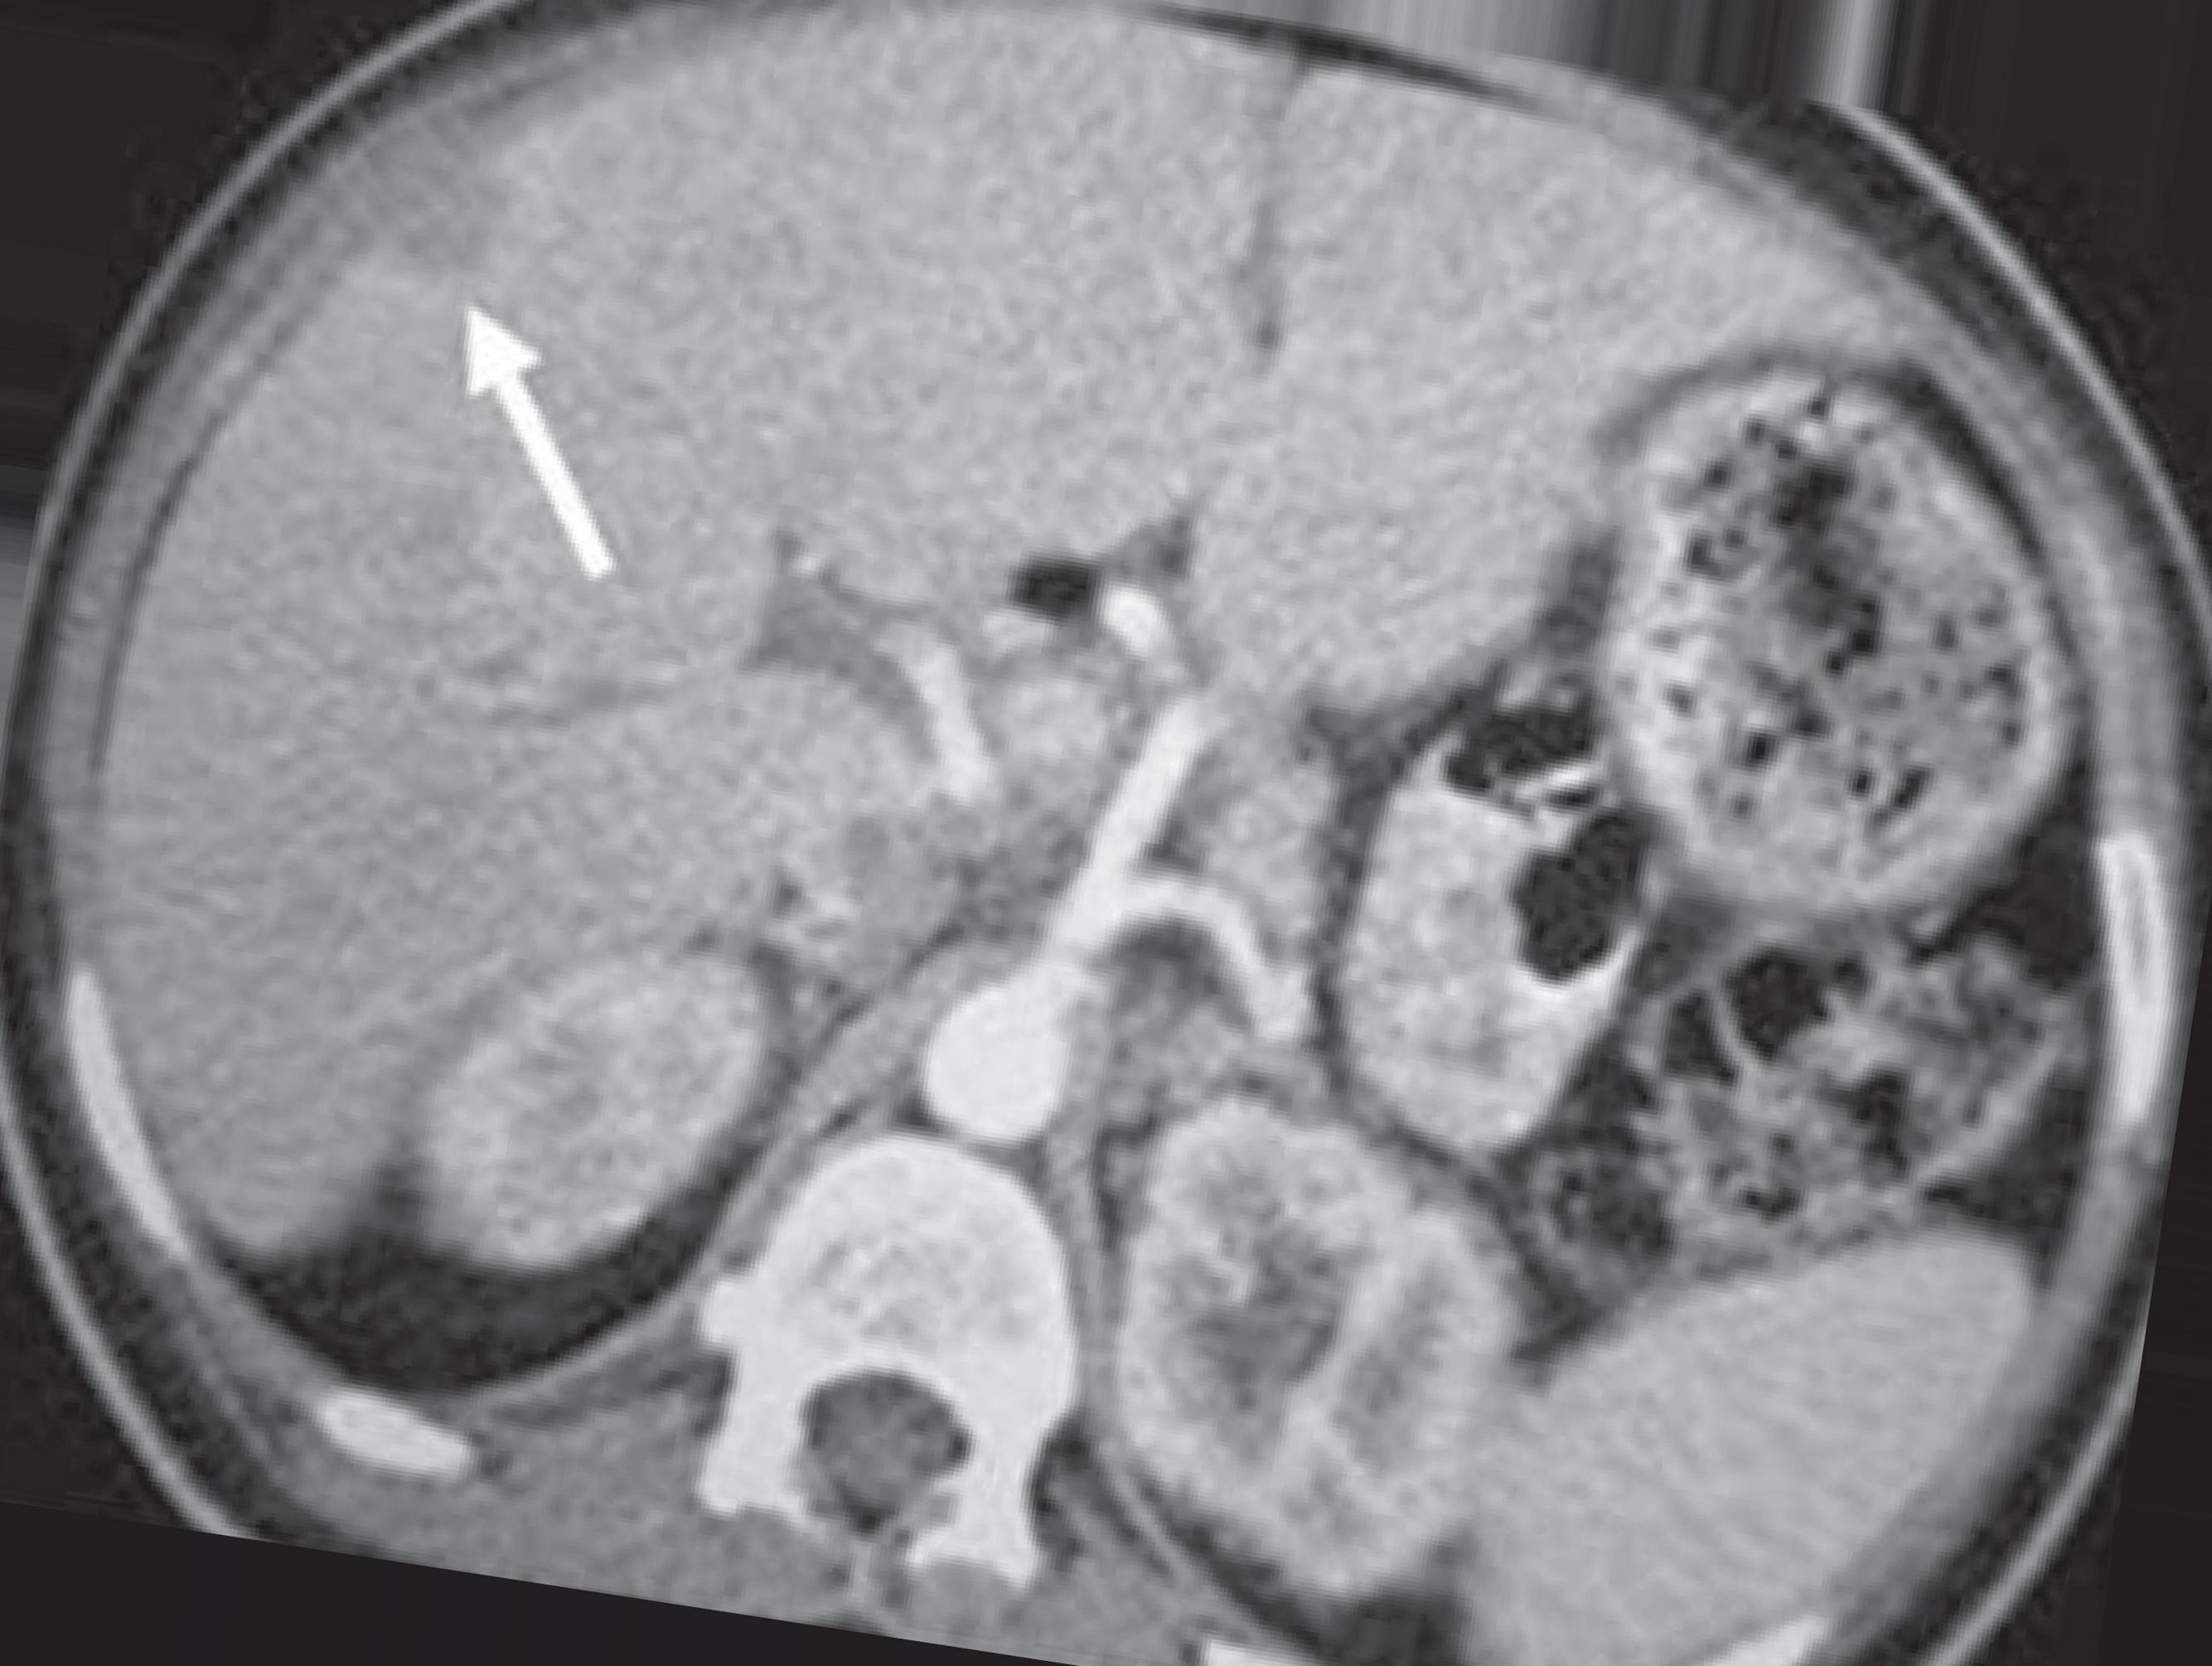anomaly: (376, 170, 525, 280)
